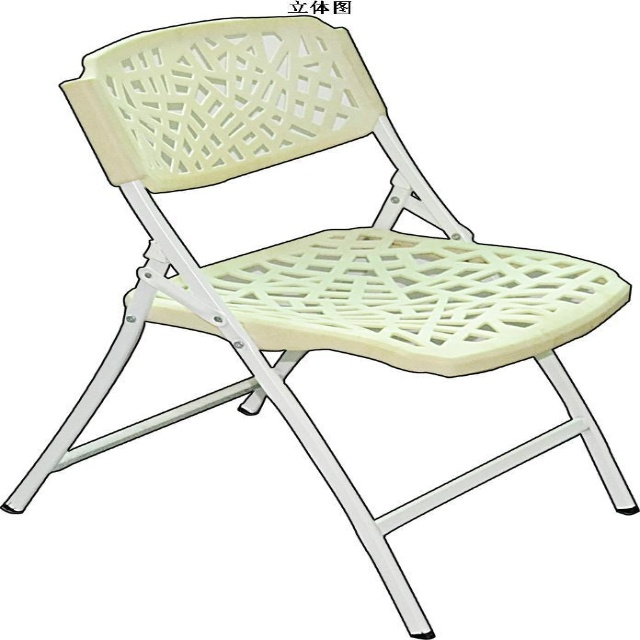obstacle: (4, 0, 292, 496), (4, 397, 410, 639), (290, 0, 636, 281), (387, 437, 636, 639), (287, 351, 568, 516), (154, 137, 394, 265), (557, 302, 635, 487)
